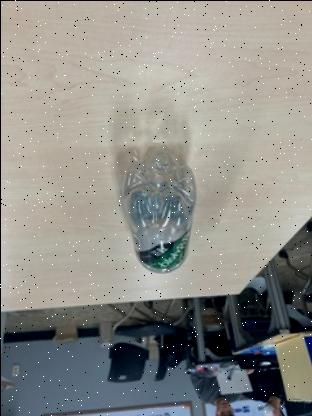Plastic Bottle: (118, 135, 196, 275)
